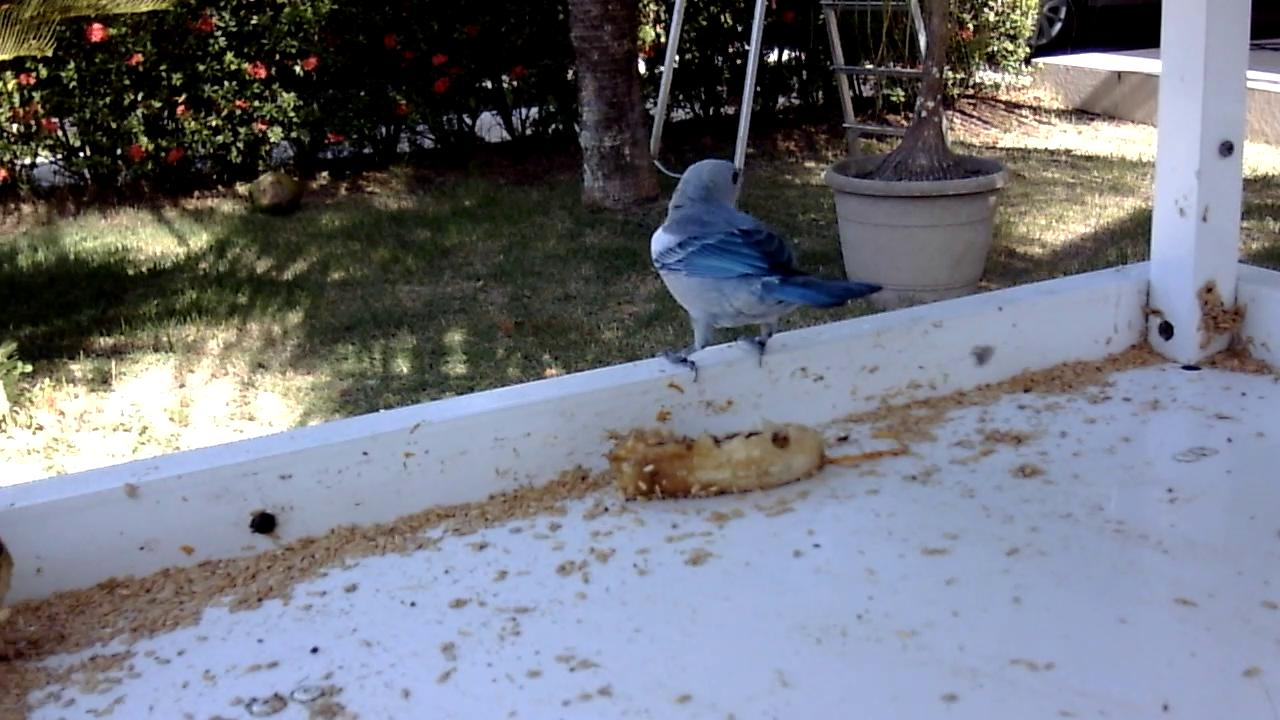sanhaco_da_amazonia: (647, 158, 888, 389)
